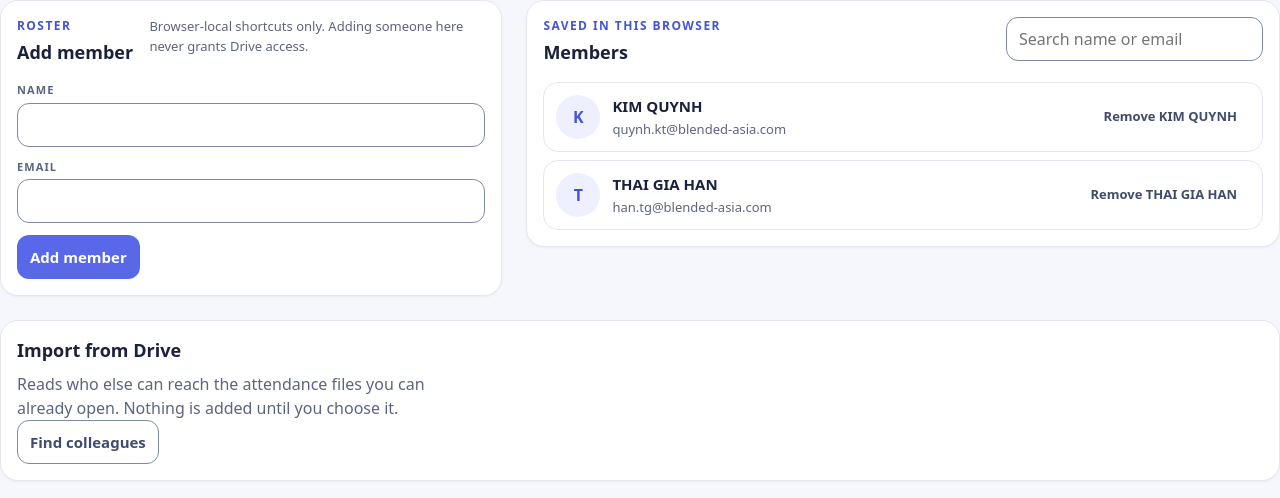
it: MemberRoster › filters the compact roster without changing the account-scoped records
Expected: the heading "THAI GIA HAN" is shown, [612,174,718,194]
Step 1. Type "quynh" into the search field named "Search members" → coordinates (1134, 39), box [1006,17,1263,61]
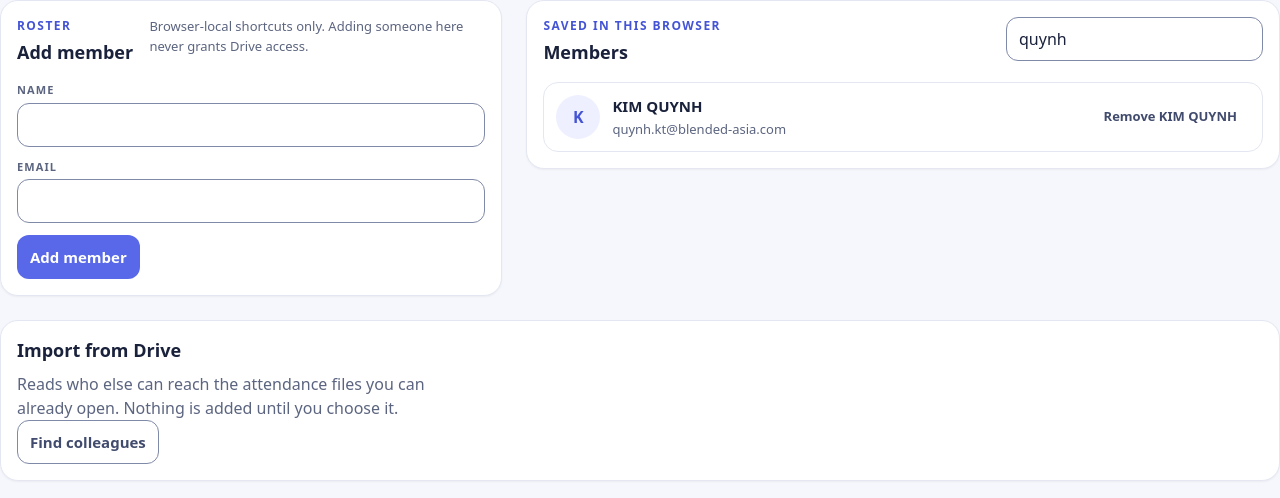
Expected: the heading "KIM QUYNH" is shown, [612,96,703,116]
Now the heading "THAI GIA HAN" is gone
